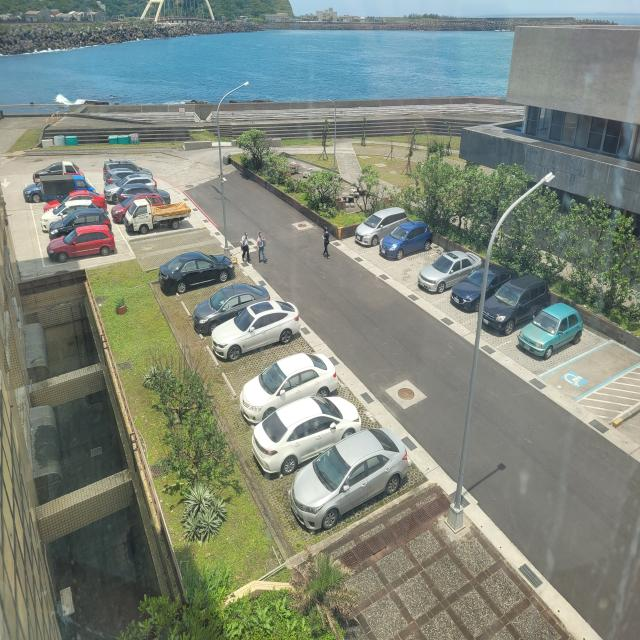car: (290, 426, 414, 534), (247, 396, 369, 480), (237, 352, 356, 428), (210, 298, 302, 364), (513, 301, 589, 361), (190, 281, 275, 334), (481, 276, 553, 334), (448, 264, 523, 316), (152, 251, 237, 290), (414, 249, 486, 295), (41, 224, 120, 262), (123, 198, 195, 235), (375, 222, 440, 262), (345, 208, 412, 242), (38, 201, 102, 232), (112, 194, 168, 222), (51, 210, 115, 234), (102, 176, 158, 202), (40, 175, 98, 199), (117, 183, 174, 206), (43, 190, 110, 208), (23, 179, 75, 202), (101, 158, 153, 176), (32, 163, 82, 180), (105, 170, 157, 180), (60, 163, 81, 178)
